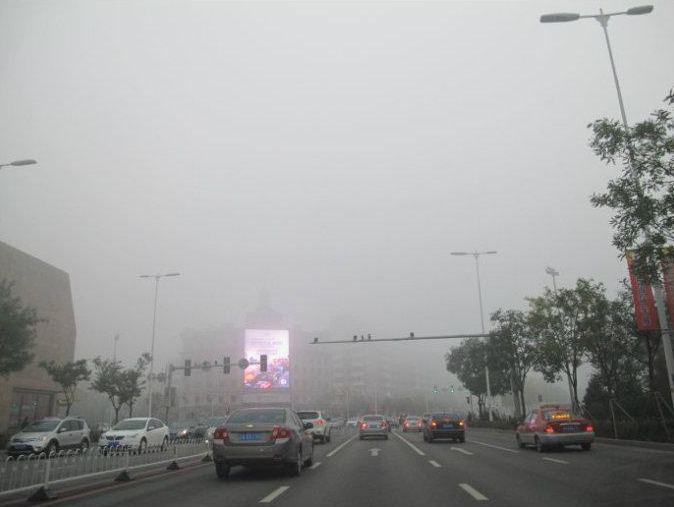car: (211, 405, 315, 479), (514, 403, 595, 452), (7, 416, 91, 458), (97, 417, 171, 456), (287, 410, 333, 444), (421, 410, 467, 443), (201, 414, 249, 445), (162, 419, 213, 444), (357, 414, 390, 440), (400, 416, 424, 432), (345, 415, 358, 428)
